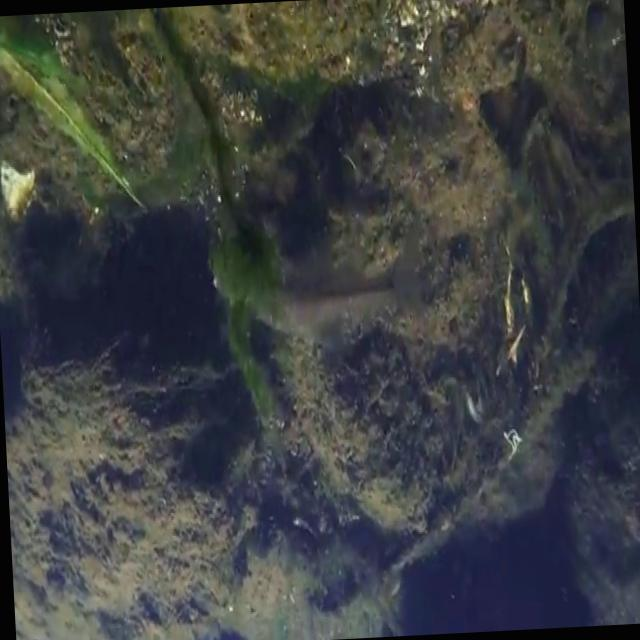Cakil Baligi: (234, 235, 428, 363)
